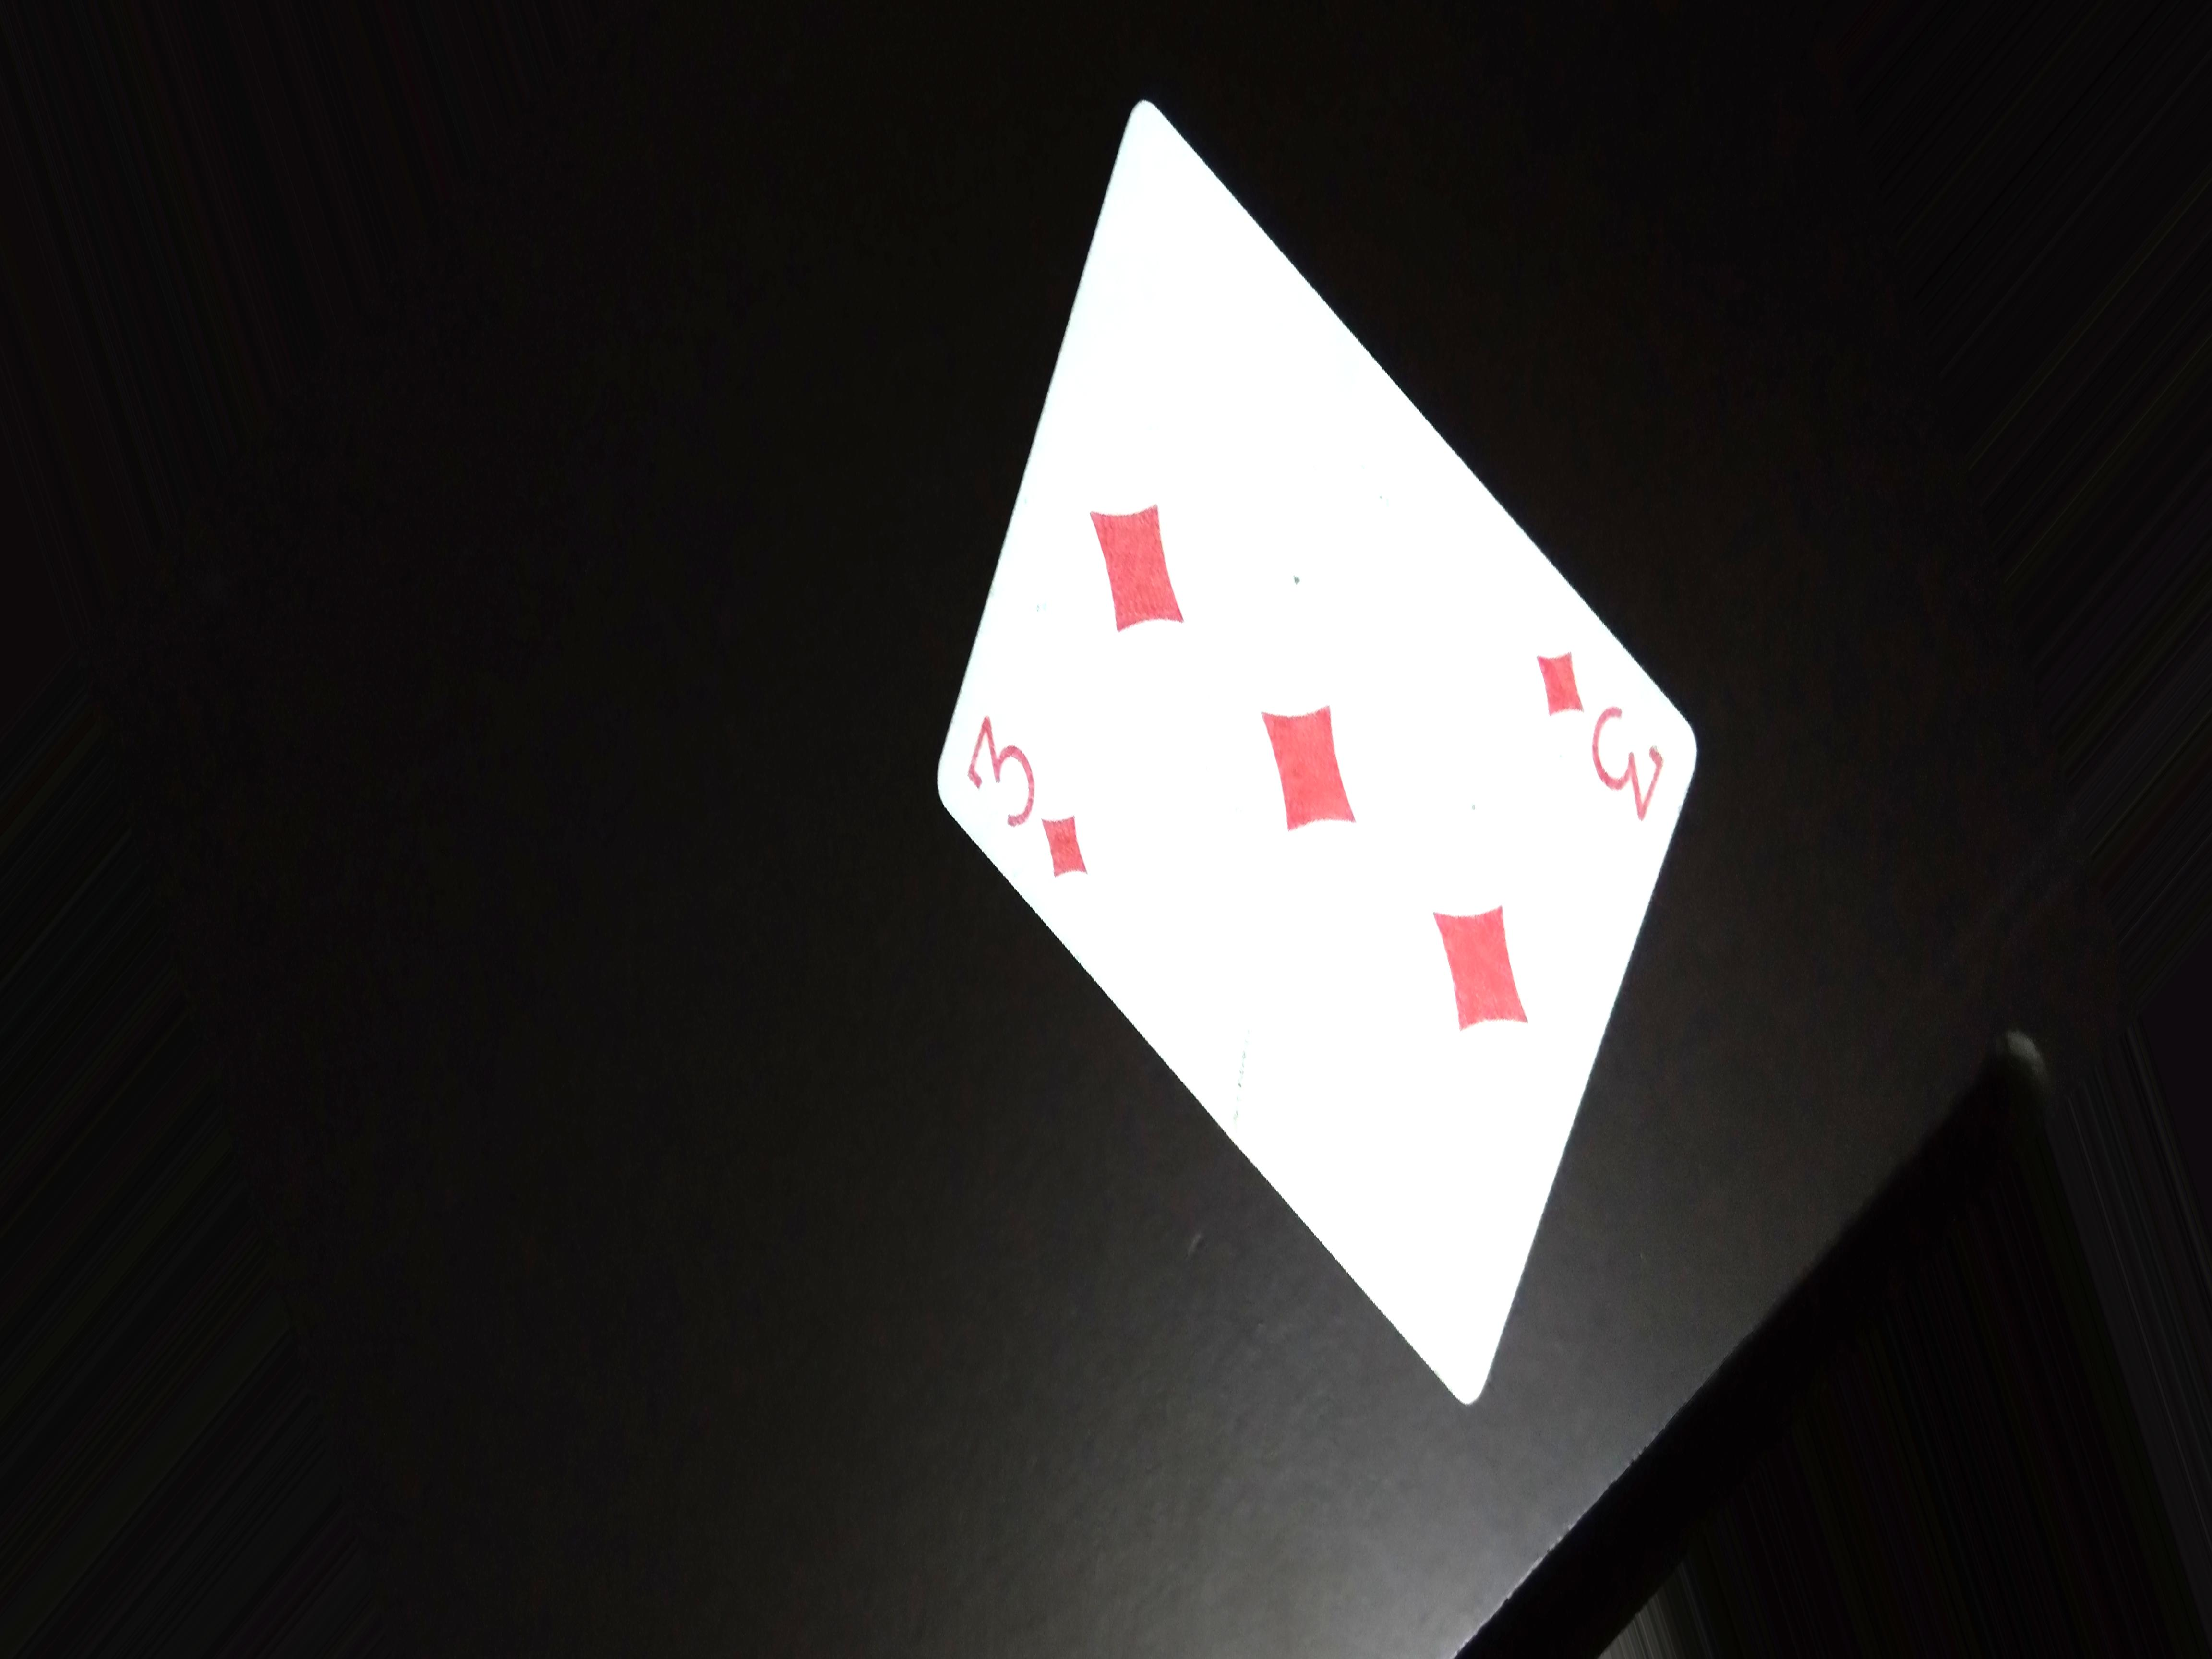3D: (1508, 634, 1688, 819)
